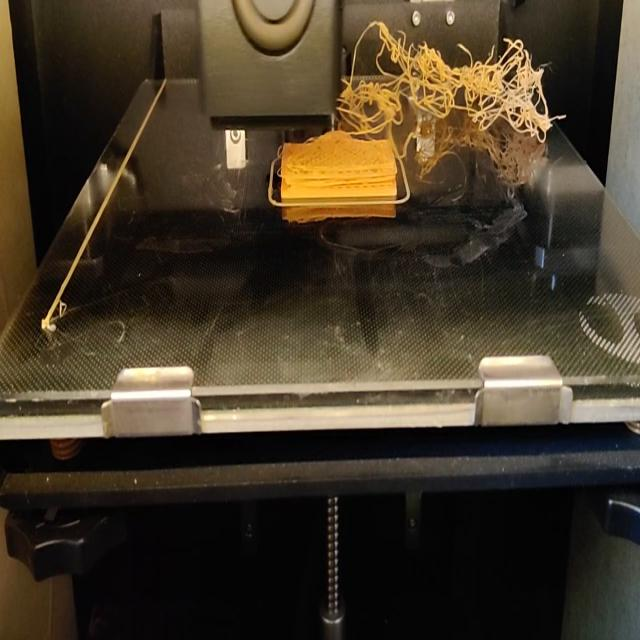spaghetti: (340, 19, 566, 161)
